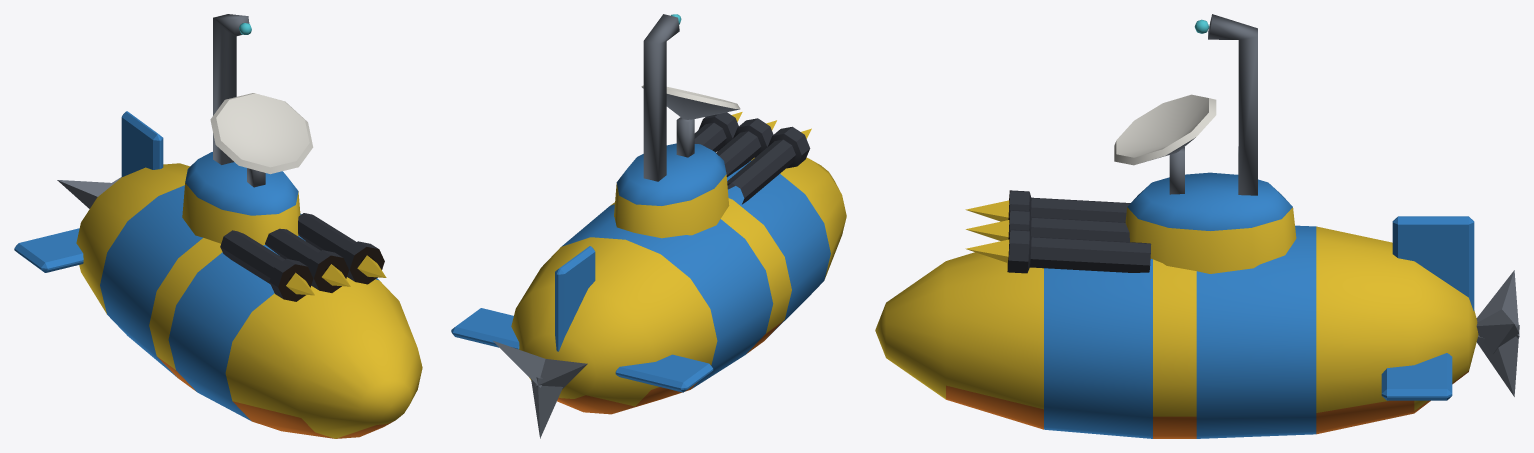
3 views of the same model, side by side, from view 1: azimuth 30°, elevation 25°; view 2: azimuth 150°, elevation 25°; view 3: azimuth 270°, elevation 25° (orthographic). The views are drawn at different scales.
Parts seen in each view (by area): view 1: submarino_0_base, submarino_1_torreta; view 2: submarino_0_base, submarino_1_torreta; view 3: submarino_0_base, submarino_1_torreta.
Part boxes in pixels (bbox=[...]): submarino_0_base: bbox=[14, 111, 422, 438]; submarino_1_torreta: bbox=[182, 14, 386, 301]; submarino_0_base: bbox=[451, 157, 846, 438]; submarino_1_torreta: bbox=[614, 14, 811, 238]; submarino_0_base: bbox=[875, 216, 1519, 438]; submarino_1_torreta: bbox=[965, 14, 1296, 273].
Size of the model in its own units: 0.58 by 0.8253 by 1.18.
